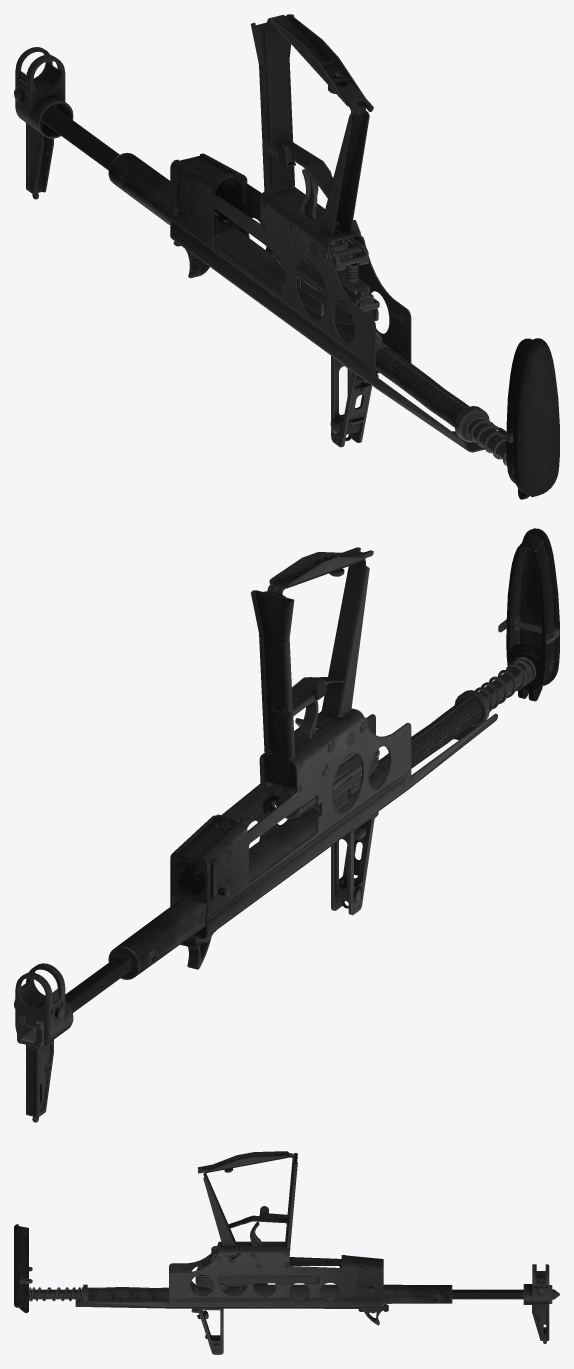
3 views of the same model, one above another, from view 1: azimuth 30°, elevation 25°; view 2: azimuth 150°, elevation 25°; view 3: azimuth 270°, elevation 25° (orthographic). The views are drawn at different scales.
Parts seen in each view (by area): view 1: TW_66ffa9b66e19cc902401c5e8_PZ_Import; view 2: TW_66ffa9b66e19cc902401c5e8_PZ_Import; view 3: TW_66ffa9b66e19cc902401c5e8_PZ_Import.
Boxes of the visible parts, <box> form: TW_66ffa9b66e19cc902401c5e8_PZ_Import: <box>14,14,559,499</box>; TW_66ffa9b66e19cc902401c5e8_PZ_Import: <box>14,528,559,1122</box>; TW_66ffa9b66e19cc902401c5e8_PZ_Import: <box>14,1151,559,1354</box>.
Size of the model in its own units: 0.0284 by 0.4541 by 0.1823.
1 material, 1 textured.
